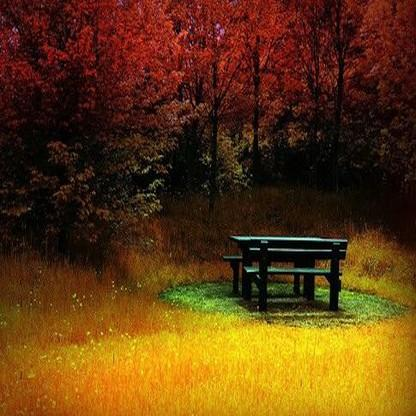obstacle: (211, 222, 357, 319)
